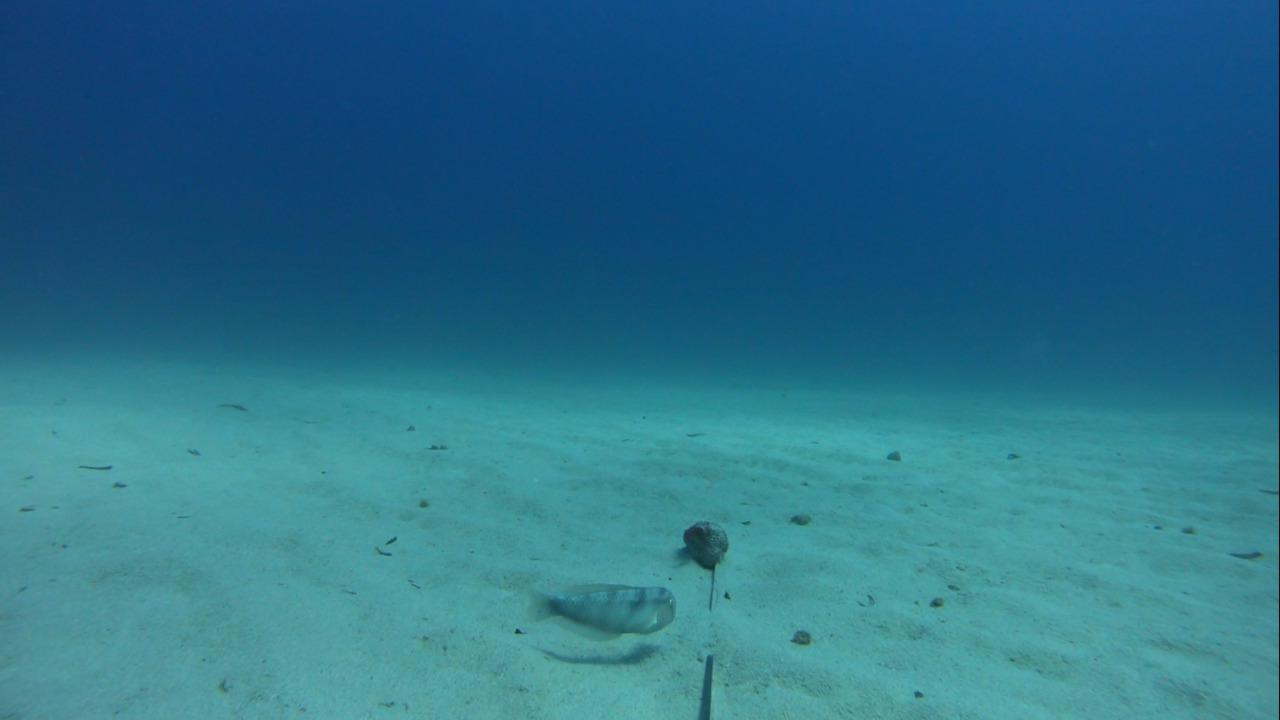raor: (523, 580, 680, 636)
